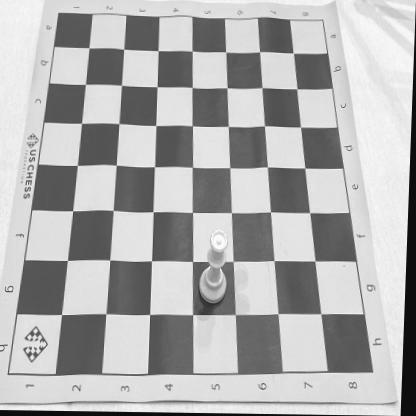white-queen: (201, 229, 232, 306)
